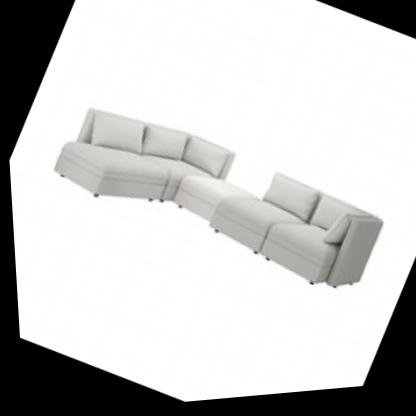Sofa: (22, 47, 406, 349)
